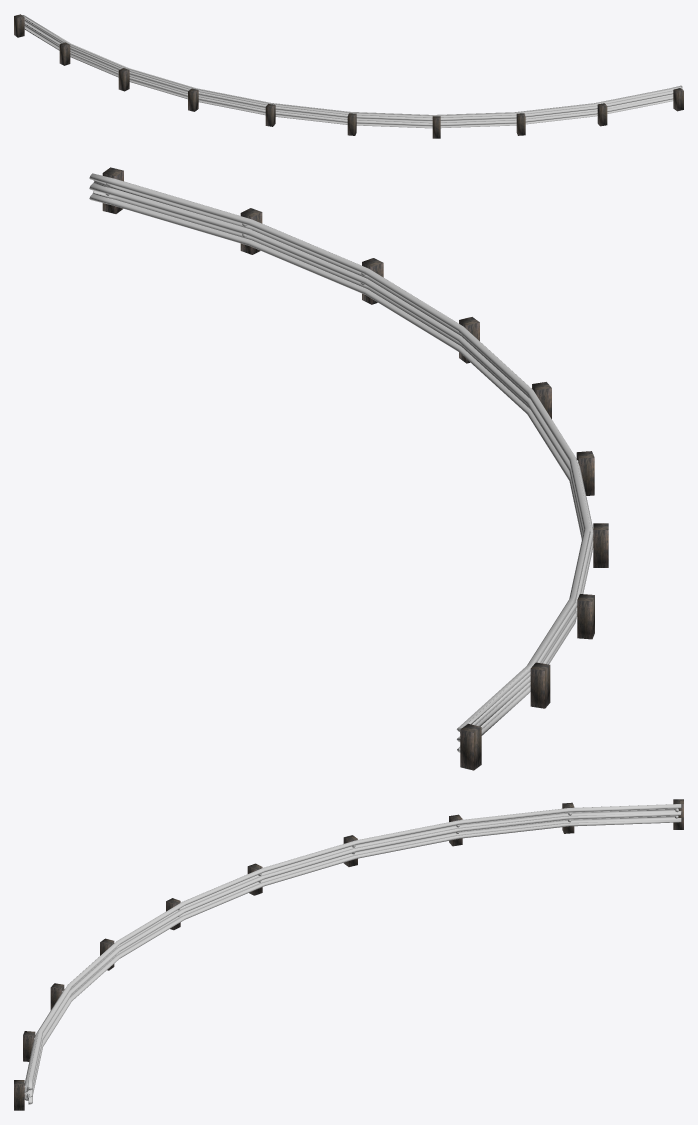
The model's file is roadrail_curve.fbx.
The picture shows the model from 3 angles, top to bottom: view 1: azimuth 30°, elevation 25°; view 2: azimuth 150°, elevation 25°; view 3: azimuth 270°, elevation 25°; orthographic projection. The views are drawn at different scales.
Visible parts, largest first — view 1: rail0, posts0; view 2: rail0, posts0; view 3: rail0, posts0.
Part boxes in pixels (left/top/right/bottom): rail0: left=22, top=15, right=682, bottom=128; posts0: left=14, top=14, right=683, bottom=138; rail0: left=89, top=173, right=593, bottom=752; posts0: left=102, top=167, right=608, bottom=770; rail0: left=24, top=804, right=681, bottom=1104; posts0: left=14, top=799, right=683, bottom=1110.
Size of the model in its own units: 40.22 by 1.7 by 39.6.
